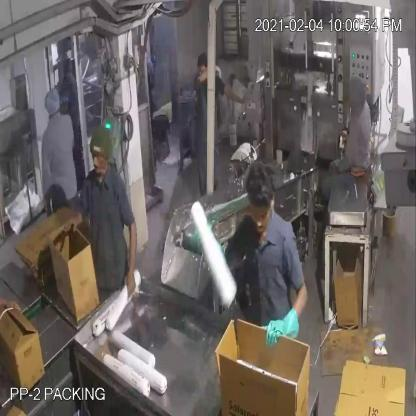glove: (259, 285, 315, 360)
no_glove: (116, 205, 140, 301), (217, 75, 254, 114), (60, 210, 90, 240)
